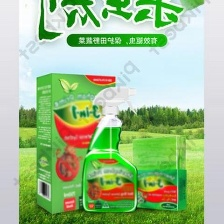book: (31, 72, 119, 216), (129, 132, 188, 215)
insecticide: (78, 84, 140, 214)
